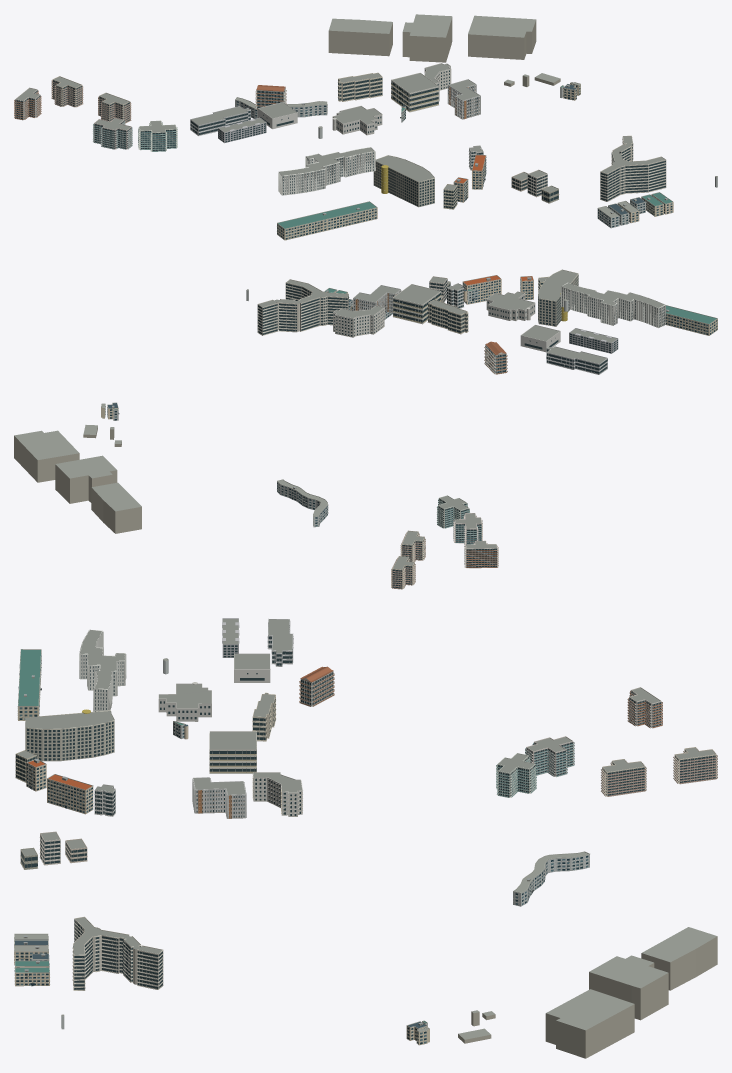
File: zone_1_2-medium.glb
The picture shows the model from 3 angles, top to bottom: view 1: azimuth 30°, elevation 25°; view 2: azimuth 150°, elevation 25°; view 3: azimuth 270°, elevation 25°; orthographic projection. The views are drawn at different scales.
Visible parts, largest first — view 1: web_building_1243363293, web_building_135787368, web_building_696387742, web_building_134410719, web_building_135787386, web_building_135787385, web_building_134410446, web_building_134408687, web_building_134408688, web_building_174133712, web_building_134409111, web_building_135265376 (+12 smaller); view 2: web_building_696387742, web_building_1243363293, web_building_135787368, web_building_135787385, web_building_135787386, web_building_134410719, web_building_134409115, web_building_134408687, web_building_134408688, web_building_134408690, web_building_134410446, web_building_174133712 (+11 smaller); view 3: web_building_135787368, web_building_696387742, web_building_134410719, web_building_135787385, web_building_135787386, web_building_1243363293, web_building_134408687, web_building_134409111, web_building_134409115, web_building_134408688, web_building_230172683, web_building_134410446 (+11 smaller).
Boxes of the visible parts, box(x1,y1,x2,y2) form: web_building_1243363293: box(278, 147, 375, 195); web_building_135787368: box(468, 15, 536, 59); web_building_696387742: box(600, 135, 666, 201); web_building_134410719: box(373, 155, 434, 207); web_building_135787386: box(328, 18, 392, 56); web_building_135787385: box(402, 14, 452, 62); web_building_134410446: box(277, 201, 377, 240); web_building_134408687: box(391, 72, 438, 112); web_building_134408688: box(332, 105, 382, 135); web_building_174133712: box(338, 72, 382, 101); web_building_134409111: box(447, 79, 480, 119); web_building_135265376: box(93, 118, 132, 149); web_building_696387742: box(257, 279, 349, 335); web_building_1243363293: box(561, 282, 665, 327); web_building_135787368: box(14, 430, 79, 482); web_building_135787385: box(55, 455, 117, 503); web_building_135787386: box(91, 482, 141, 533); web_building_134410719: box(538, 269, 578, 326); web_building_134409115: box(333, 305, 384, 337); web_building_134408687: box(392, 284, 441, 324); web_building_134408688: box(486, 291, 535, 320); web_building_134408690: box(546, 346, 607, 374); web_building_134410446: box(665, 305, 717, 335); web_building_174133712: box(427, 299, 468, 334); web_building_135787368: box(545, 989, 634, 1058); web_building_696387742: box(72, 916, 163, 990); web_building_134410719: box(25, 709, 114, 761); web_building_135787385: box(589, 955, 668, 1020); web_building_135787386: box(641, 927, 717, 990); web_building_1243363293: box(79, 629, 126, 711); web_building_134408687: box(209, 731, 256, 773); web_building_134409111: box(192, 777, 246, 818); web_building_134409115: box(252, 772, 303, 816); web_building_134408688: box(158, 682, 211, 721); web_building_230172683: box(513, 851, 589, 906); web_building_134410446: box(17, 649, 41, 720).
Bounding box in the file's own units: 629 × 157 × 603.
